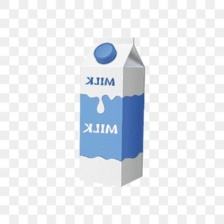carton: (76, 33, 147, 188)
